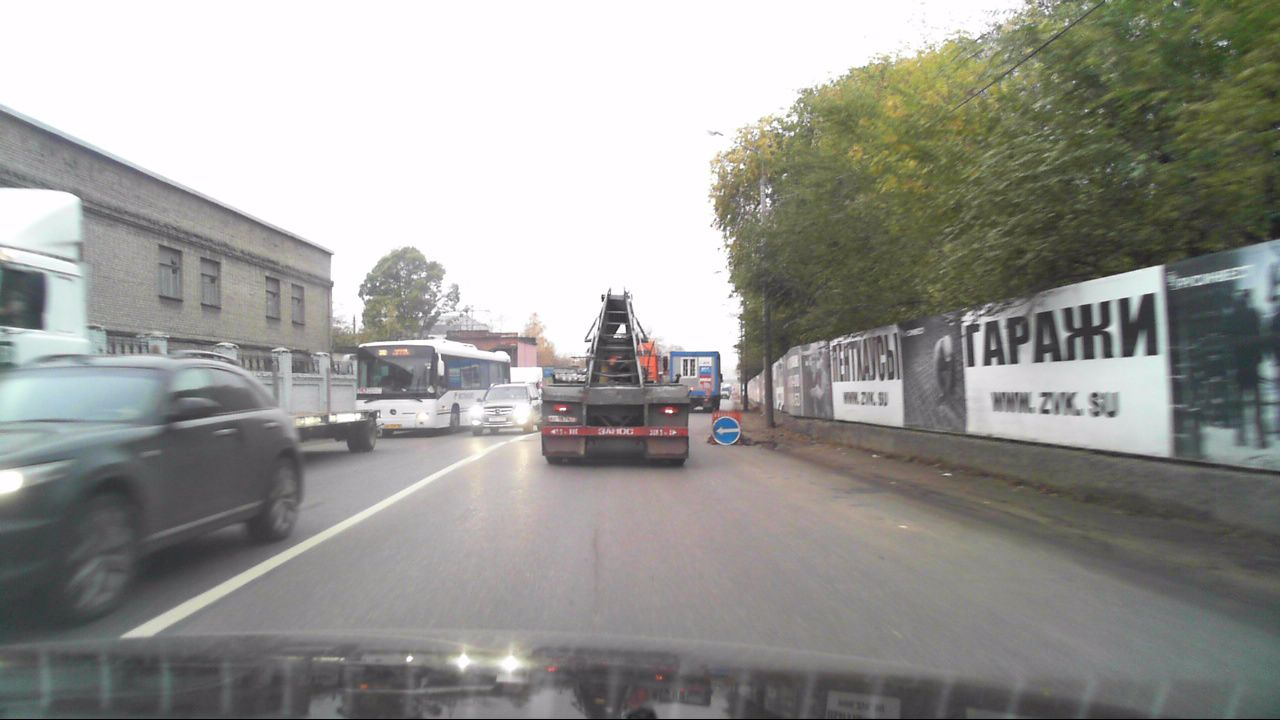Turn Left: (711, 416, 740, 445)
